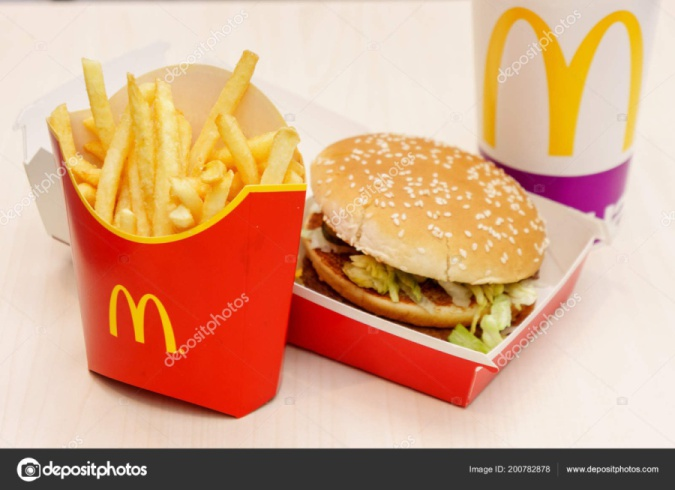mcdonalds: (472, 5, 651, 167), (102, 282, 180, 357)
